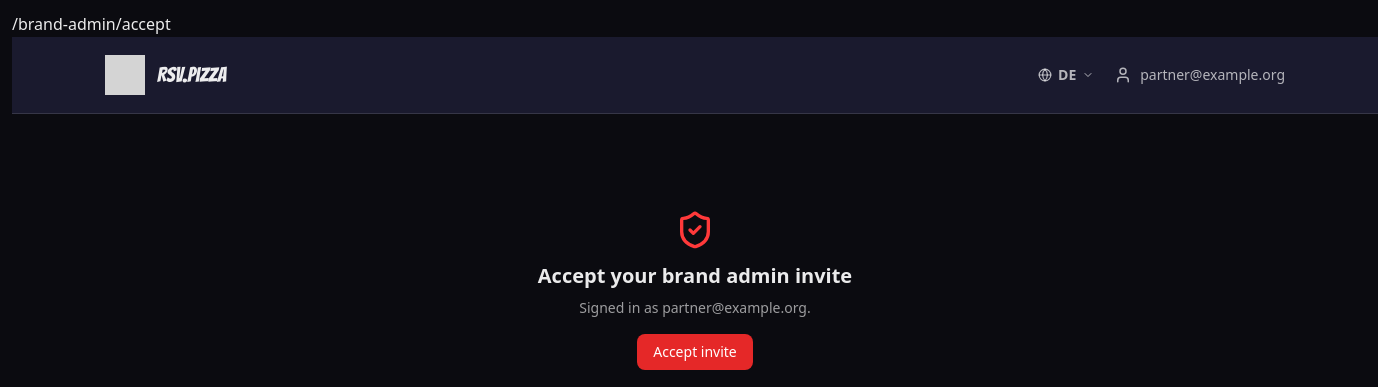
Test case: BrandAdminAcceptPage › strips the token from the address bar and accepts with it on tap
The width and height of the screenshot is (1378, 387).
Expected: the text with test id "where" reads "/brand-admin/accept", [12, 13, 171, 35]
Click the button "Accept invite".
click(695, 352)  # box [637, 334, 753, 370]
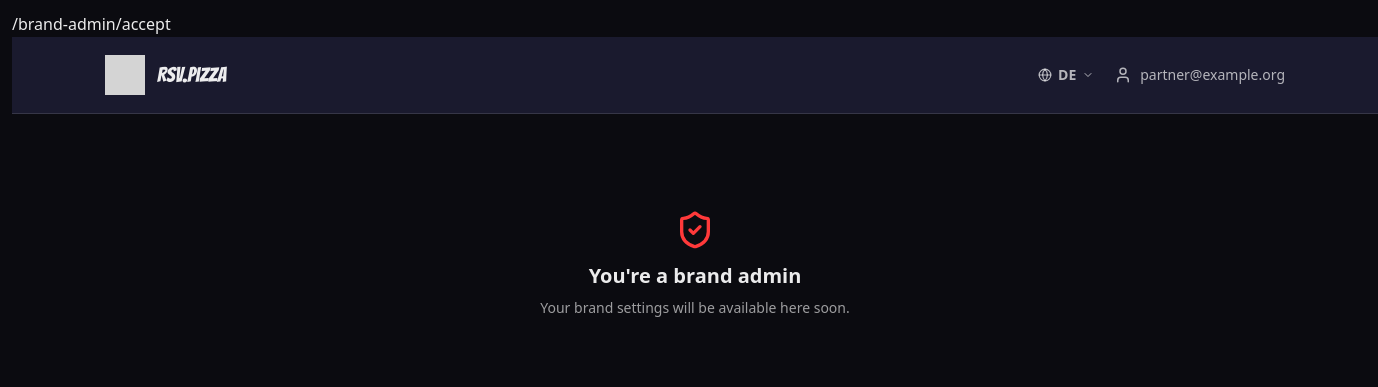
Result: the heading "You're a brand admin" is shown at [589, 262, 801, 290]
